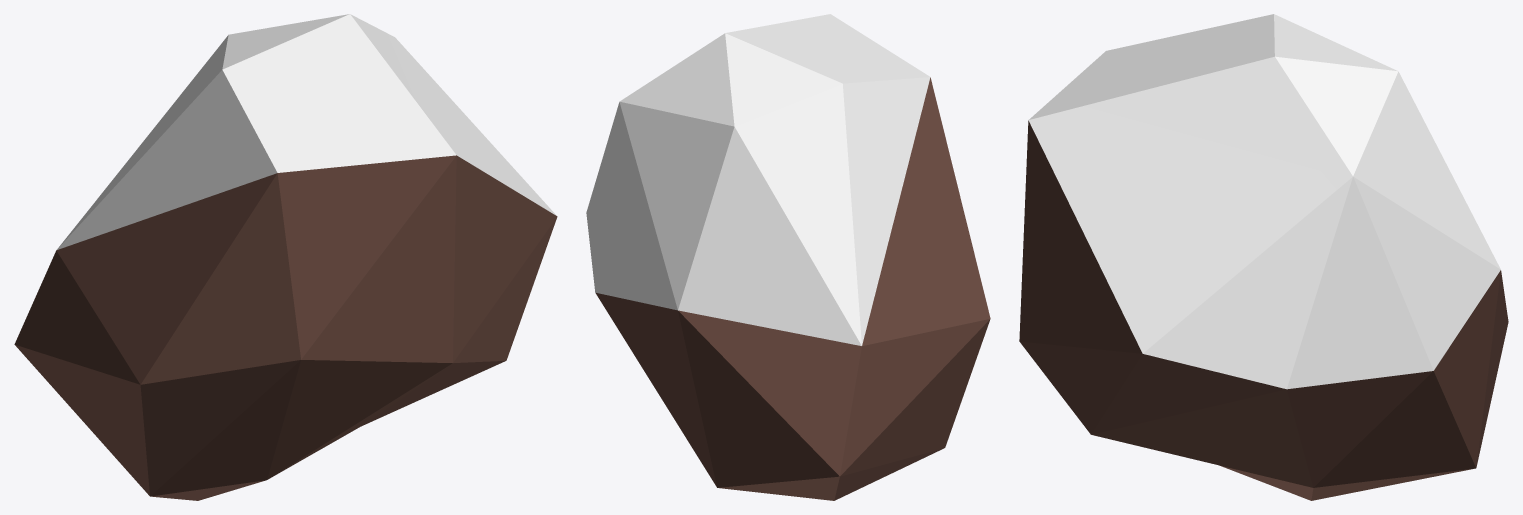
Rendered from snow_stone_002.fbx.
3 renders of one model, left to right at view 1: azimuth 30°, elevation 25°; view 2: azimuth 150°, elevation 25°; view 3: azimuth 270°, elevation 25°, orthographic. The views are drawn at different scales.
Parts seen in each view (by area): view 1: snow_stone_002; view 2: snow_stone_002; view 3: snow_stone_002.
Part boxes in pixels (x1,y1,x2,y2): snow_stone_002: [14, 14, 557, 500]; snow_stone_002: [586, 14, 990, 500]; snow_stone_002: [1019, 14, 1508, 500].
Bounding box in the file's own units: 154 × 147 × 172.
